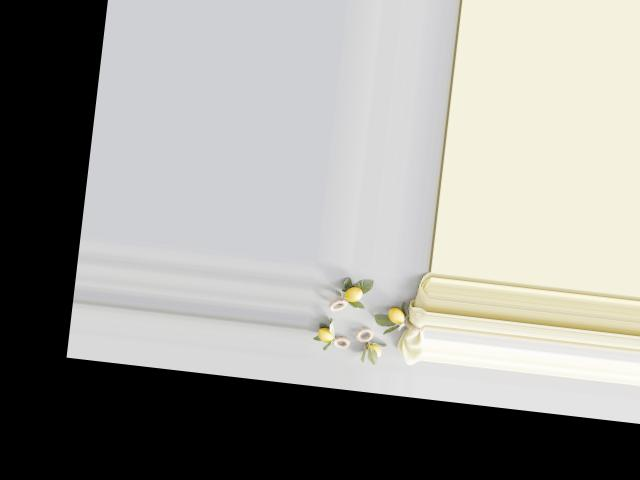lemon: (312, 322, 338, 343)
